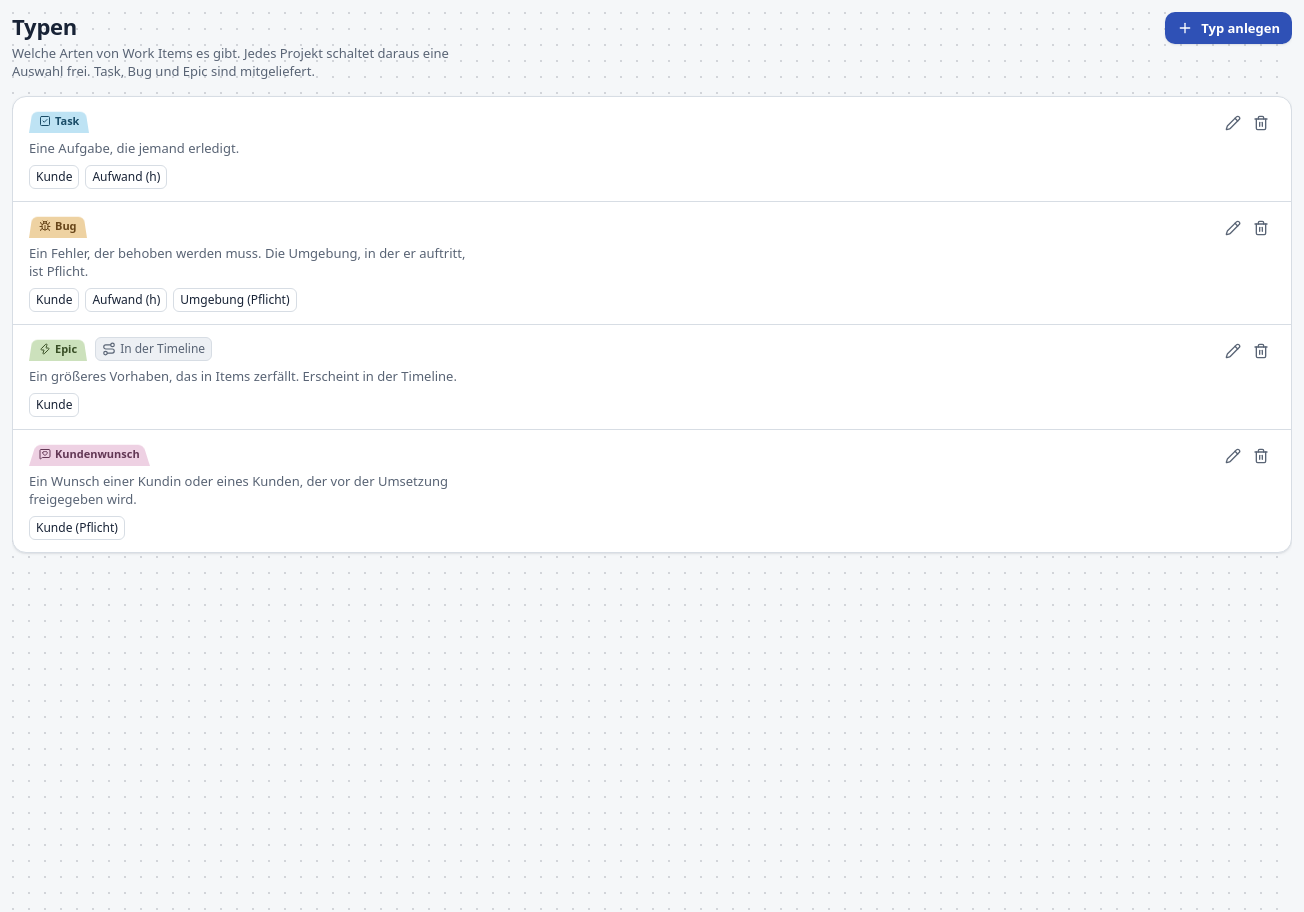
Test: Types › deletes a type after the undo time, and brings back the default type of a project with the reason
The width and height of the screenshot is (1304, 912).
Click the button named "Typ „Task“ löschen". click: [1261, 123]
box: 1247,109 -> 1275,137
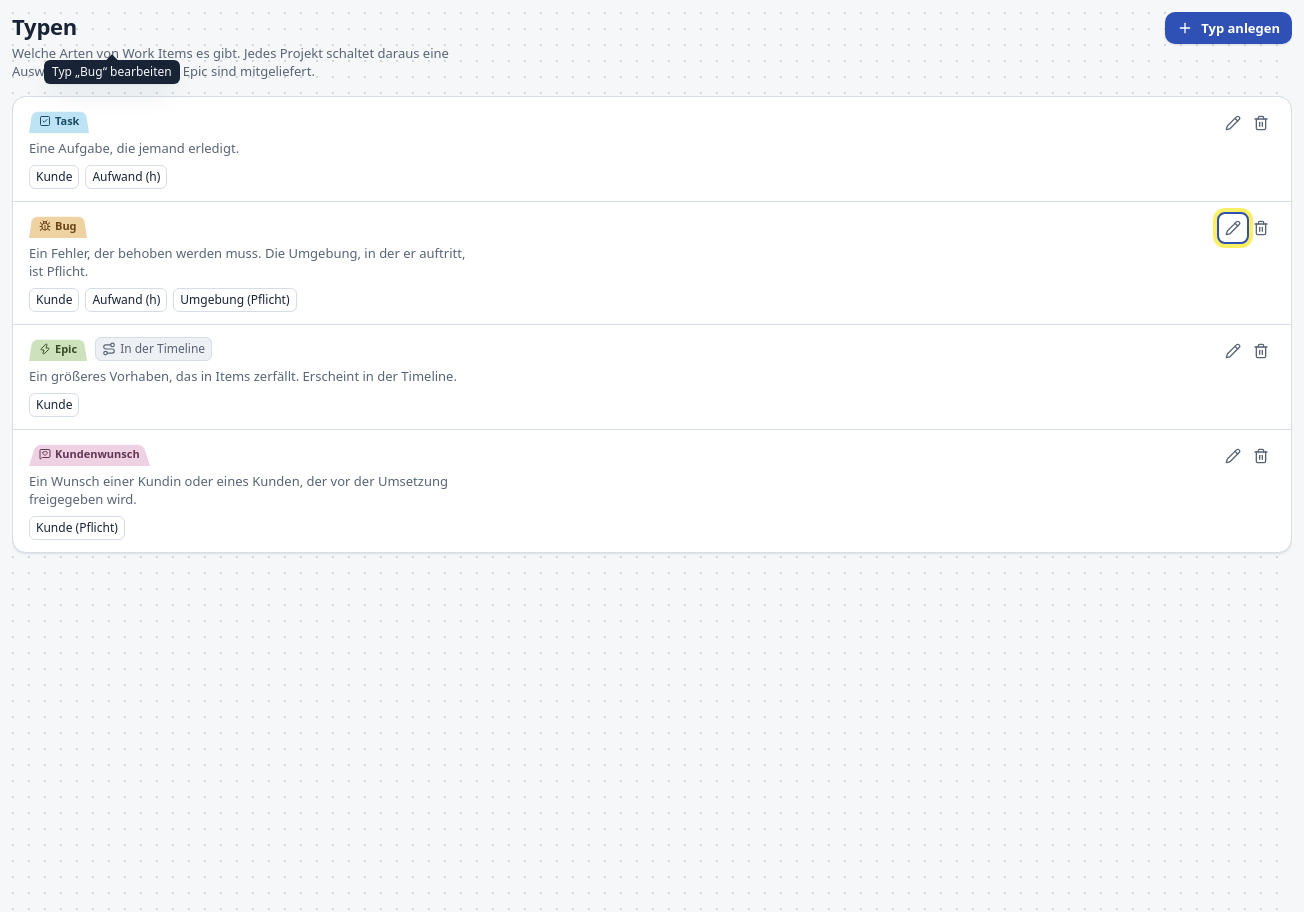
expect the list item "Task" is shown: met, box 13,97 -> 1291,202
Click the button named "Typ „Kundenwunsch“ löschen". click: [1261, 456]
box: 1247,442 -> 1275,470
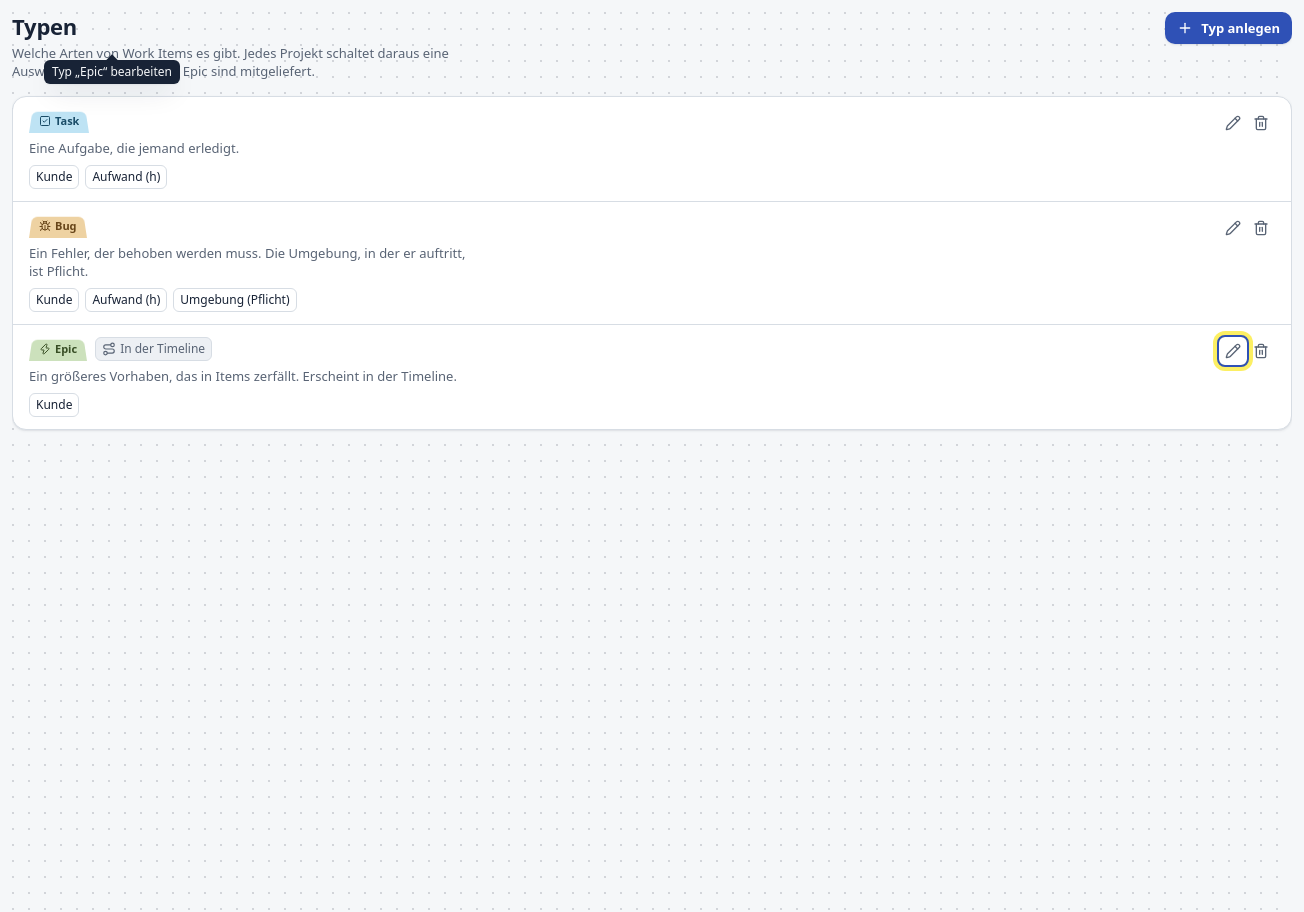
expect the text "Kundenwunsch" is gone: met
